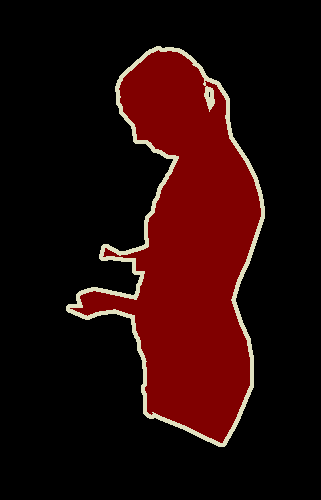person: (63, 49, 266, 450)
person/hand: (65, 289, 119, 319), (99, 245, 137, 273)
person/head: (112, 49, 209, 160)
